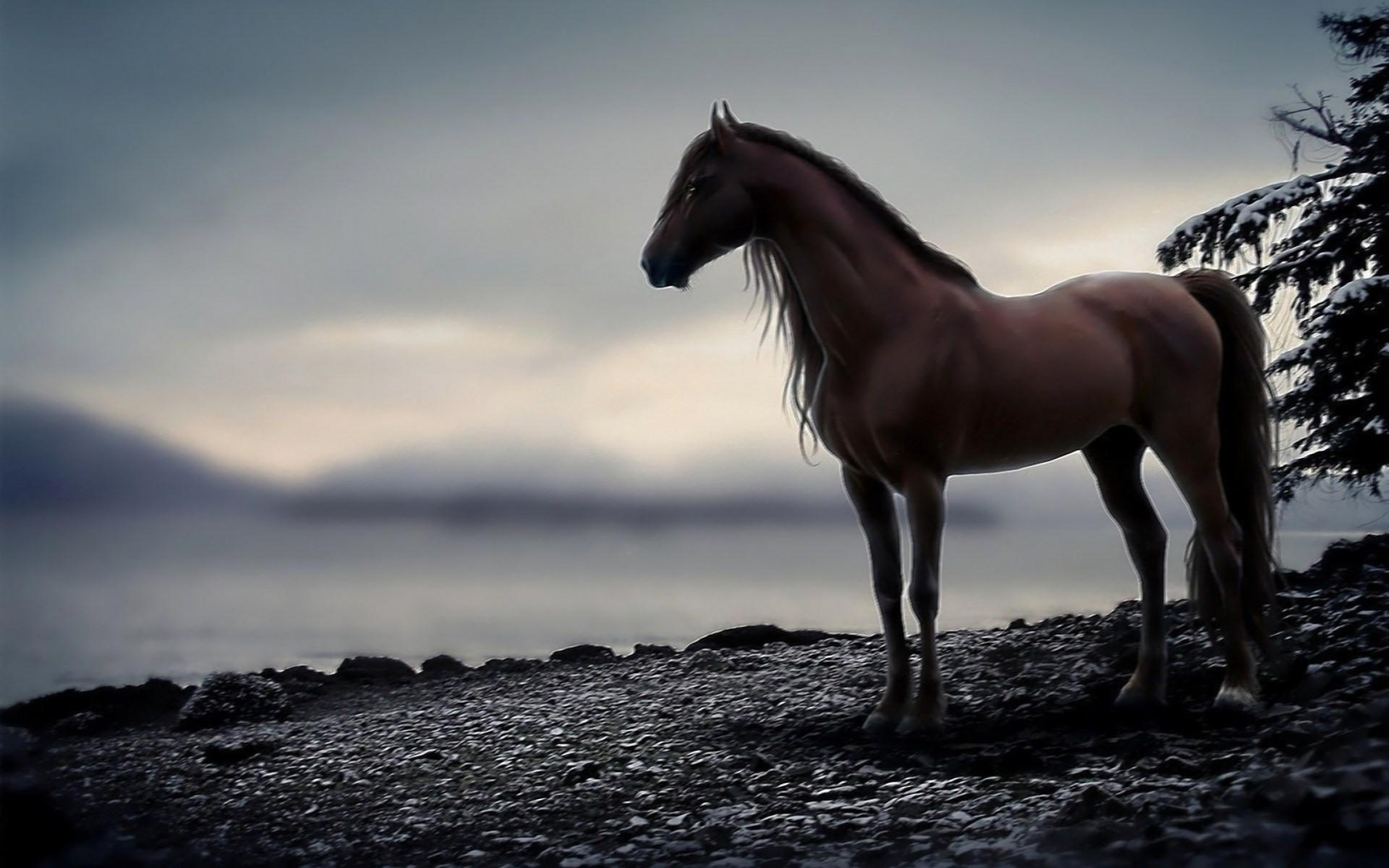horse: (632, 86, 1297, 754)
